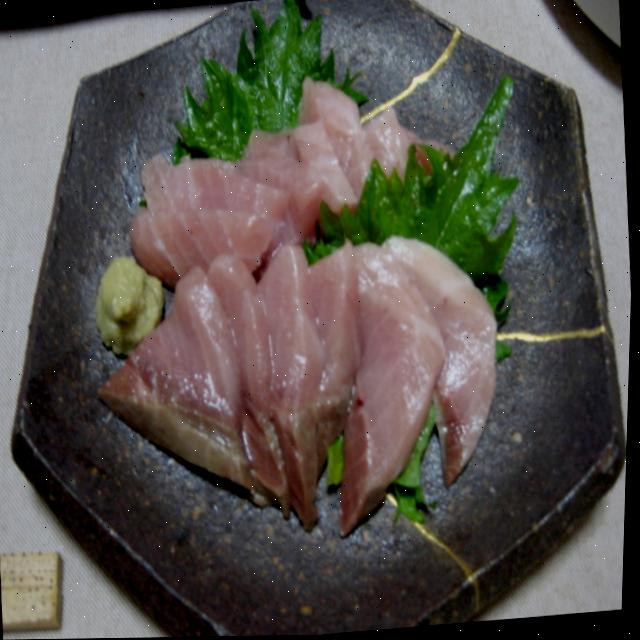刺身生食: (58, 0, 555, 634)
